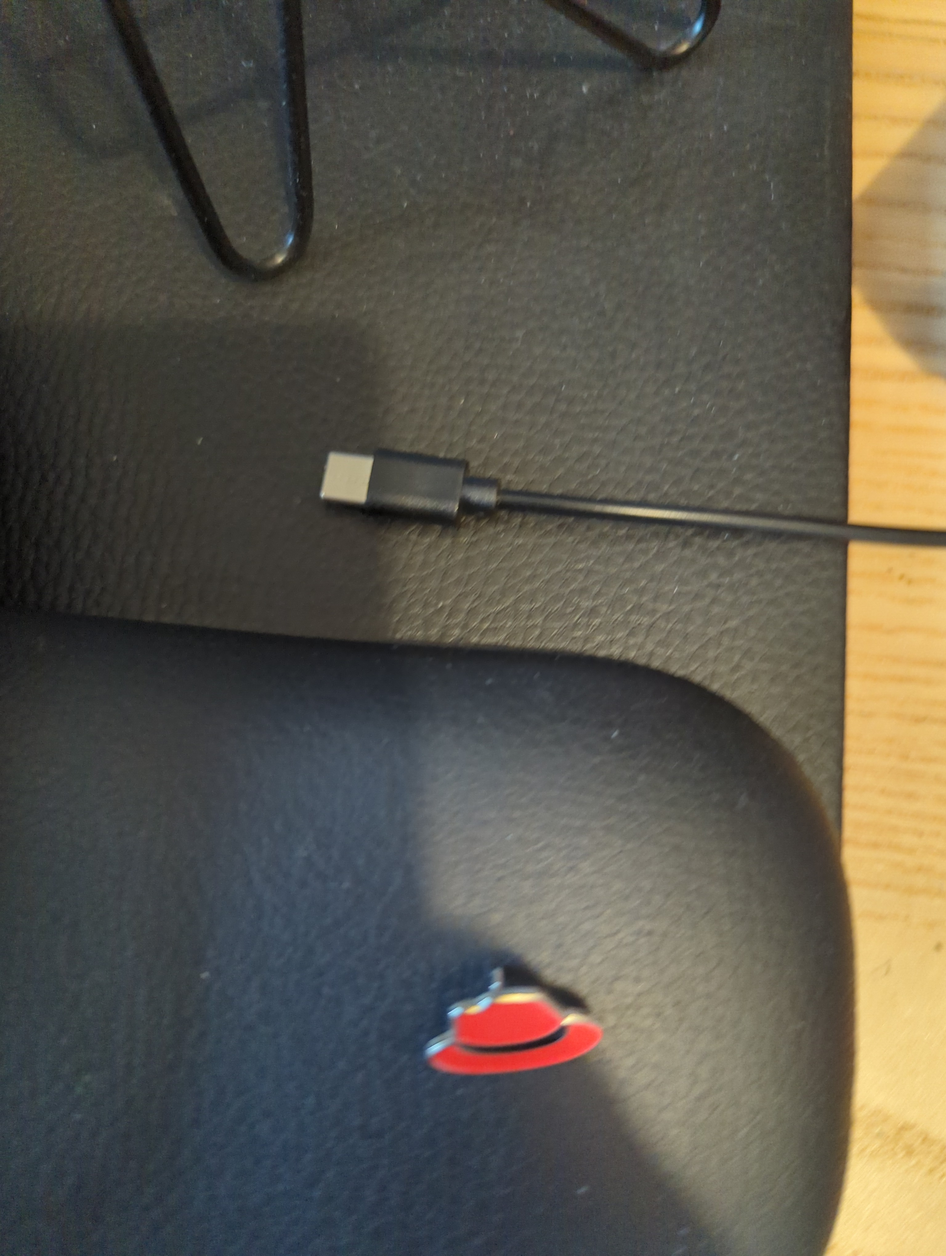Red-Hat: (337, 886, 717, 1146)
